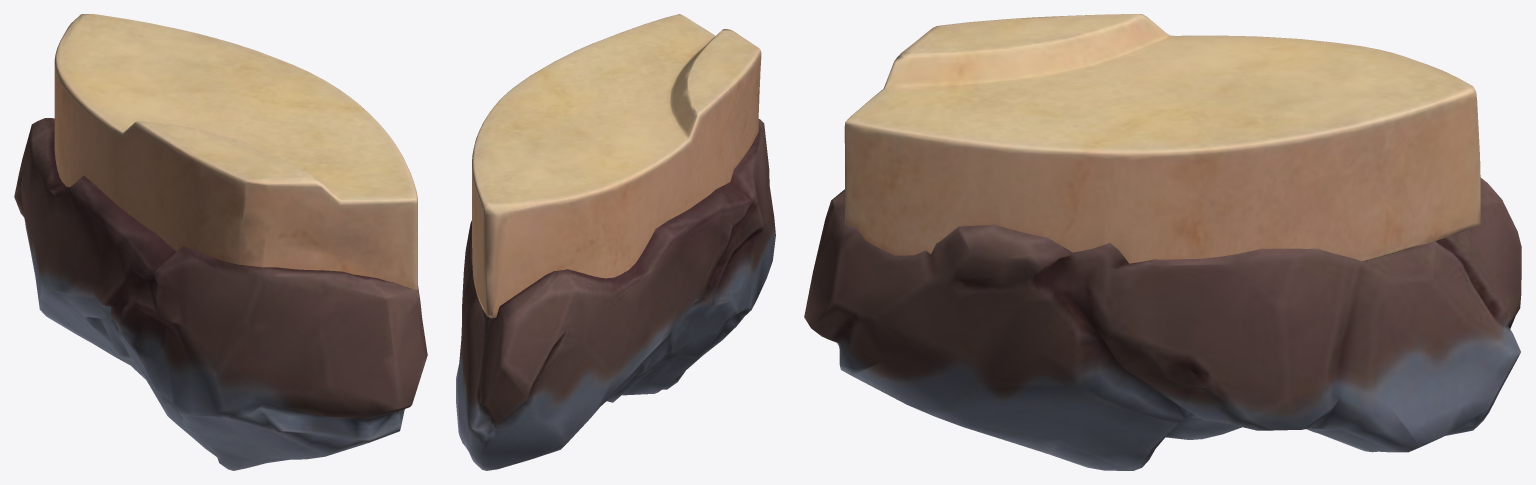
File: sky_rock_02a3.glb
The picture shows the model from 3 angles, left to right: view 1: azimuth 30°, elevation 25°; view 2: azimuth 150°, elevation 25°; view 3: azimuth 270°, elevation 25°; orthographic projection. The views are drawn at different scales.
Visible parts, largest first — view 1: rock_02a3; view 2: rock_02a3; view 3: rock_02a3.
Boxes of the visible parts, bbox=[...] form: rock_02a3: bbox=[14, 14, 427, 470]; rock_02a3: bbox=[456, 14, 775, 470]; rock_02a3: bbox=[804, 14, 1521, 470].
Bounding box in the file's own units: 13.93 × 19.24 × 31.51.
1 material, 1 textured.
